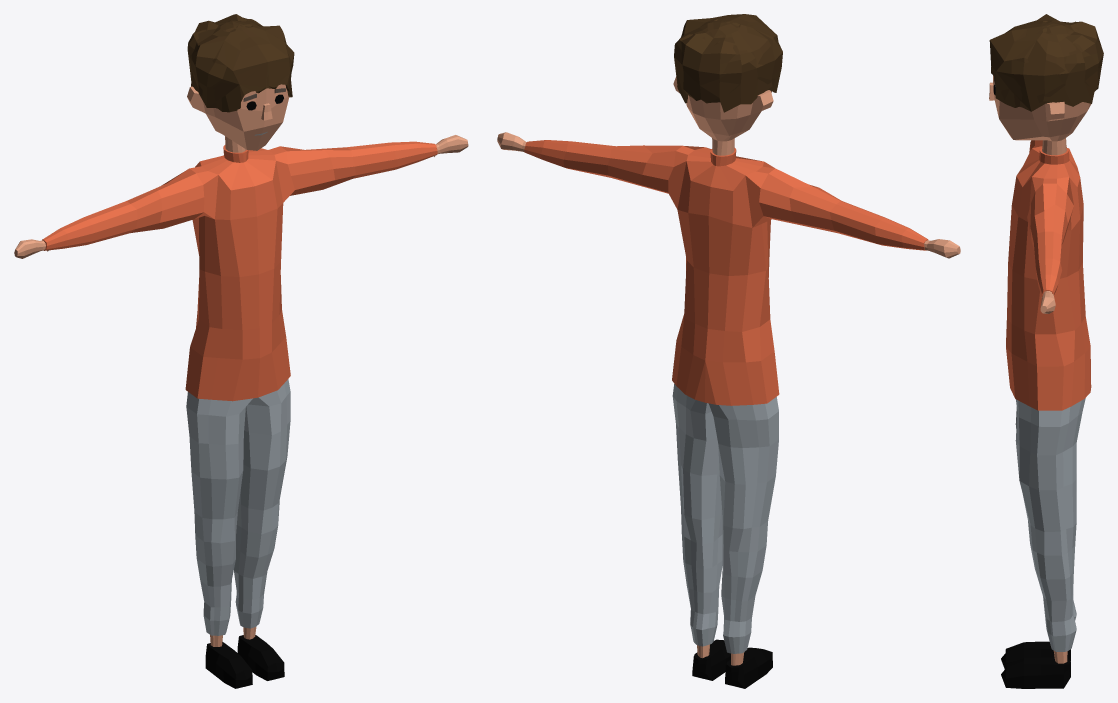
File: npcmale5.fbx
The picture shows the model from 3 angles, left to right: view 1: azimuth 30°, elevation 25°; view 2: azimuth 150°, elevation 25°; view 3: azimuth 270°, elevation 25°; orthographic projection. The views are drawn at different scales.
Parts seen in each view (by area): view 1: Cylinder.024; view 2: Cylinder.024; view 3: Cylinder.024.
Part boxes in pixels (x1,y1,x2,y2): Cylinder.024: [14, 14, 468, 688]; Cylinder.024: [497, 14, 960, 688]; Cylinder.024: [989, 14, 1103, 688].
Size of the model in its own units: 128 by 174 by 27.77.
